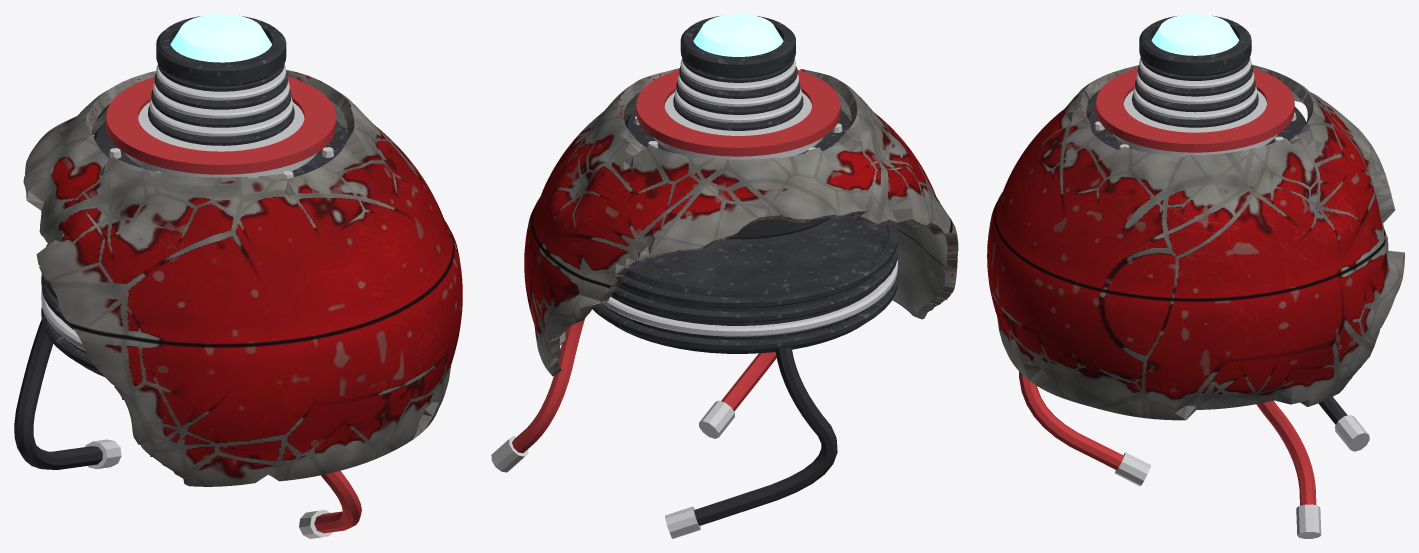
Rendered from baymax_joint_shell.glb.
3 renders of one model, left to right at view 1: azimuth 30°, elevation 25°; view 2: azimuth 150°, elevation 25°; view 3: azimuth 270°, elevation 25°, orthographic. The views are drawn at different scales.
Parts seen in each view (by area): view 1: baymax_joint_shell; view 2: baymax_joint_shell; view 3: baymax_joint_shell.
Boxes of the visible parts, x1,y1,x2,y2 form: baymax_joint_shell: (14,14,462,538); baymax_joint_shell: (491,14,958,538); baymax_joint_shell: (987,14,1404,538).
Bounding box in the file's own units: 0.534 × 0.6322 × 0.5515.
8 materials, 4 textured.
